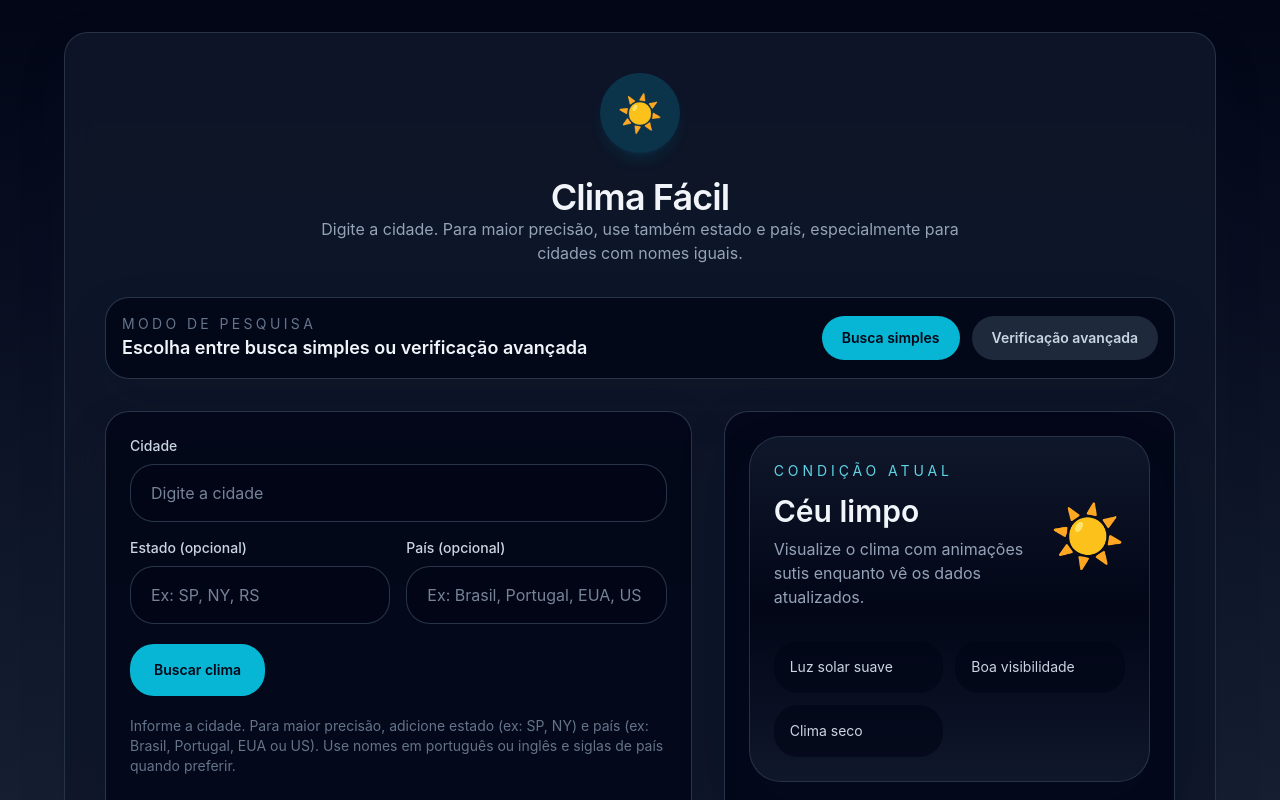
Test: App integration › shows the API timeout or service unavailable message from the weather service
Type "Lisboa" into the field labelled "Cidade" at x=398, y=493, box [130,464,667,522]
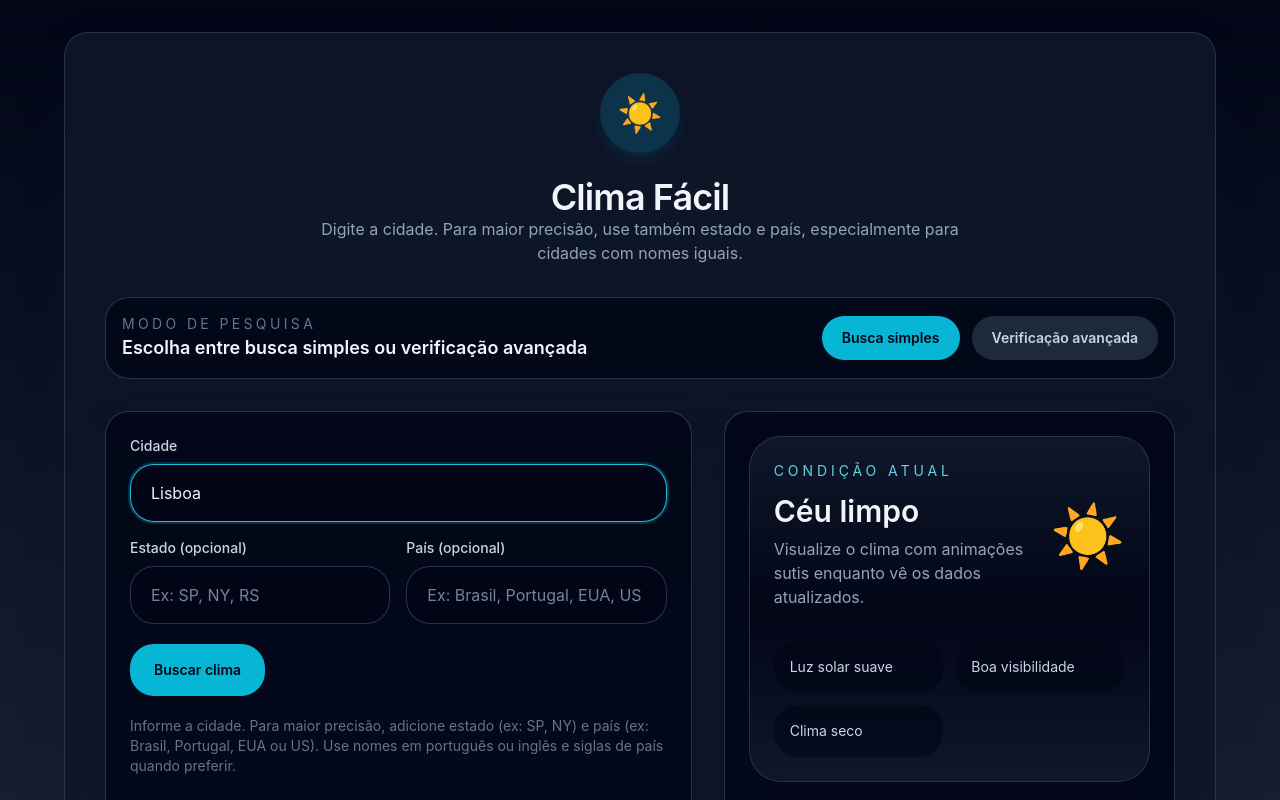
Click the button "Buscar clima" at x=198, y=670, box [130,644,265,696]
(page scrolled)
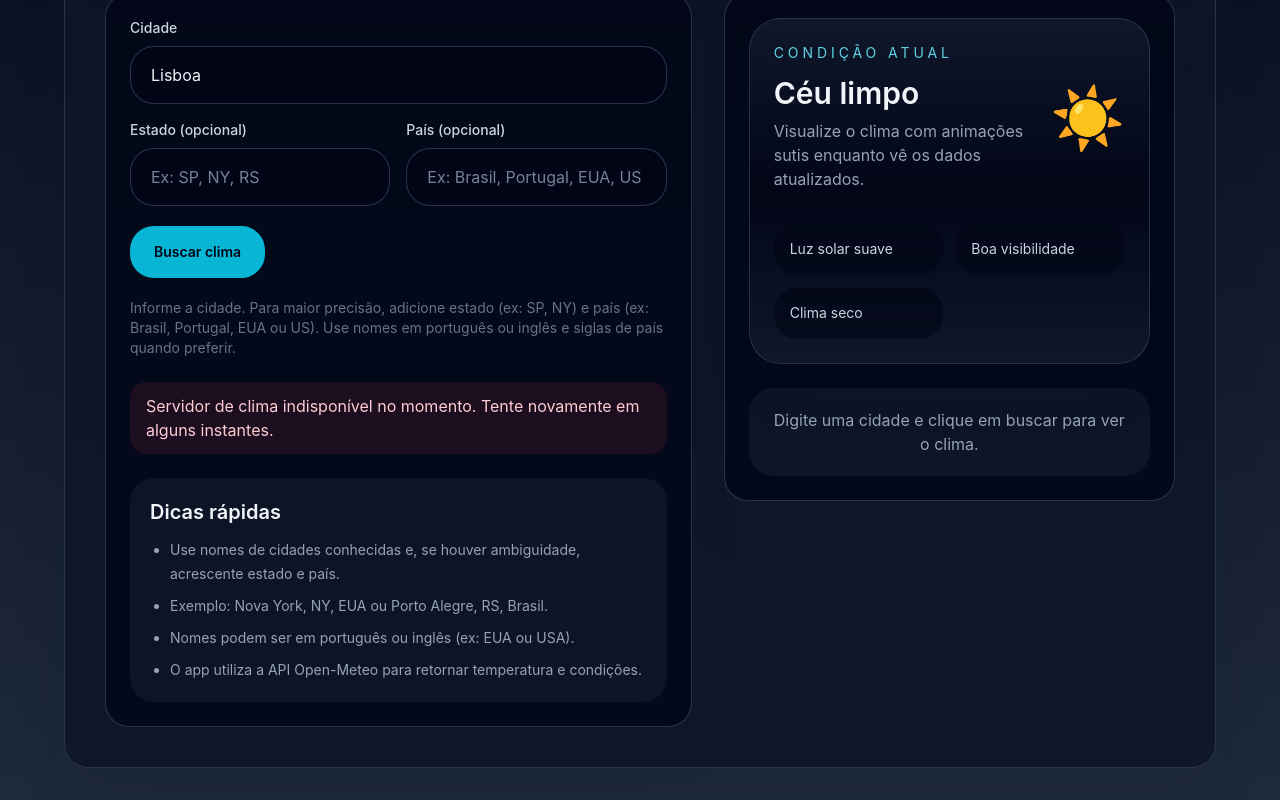
Expected: the text "Servidor de clima indisponível" is shown, [146,396,639,440]
